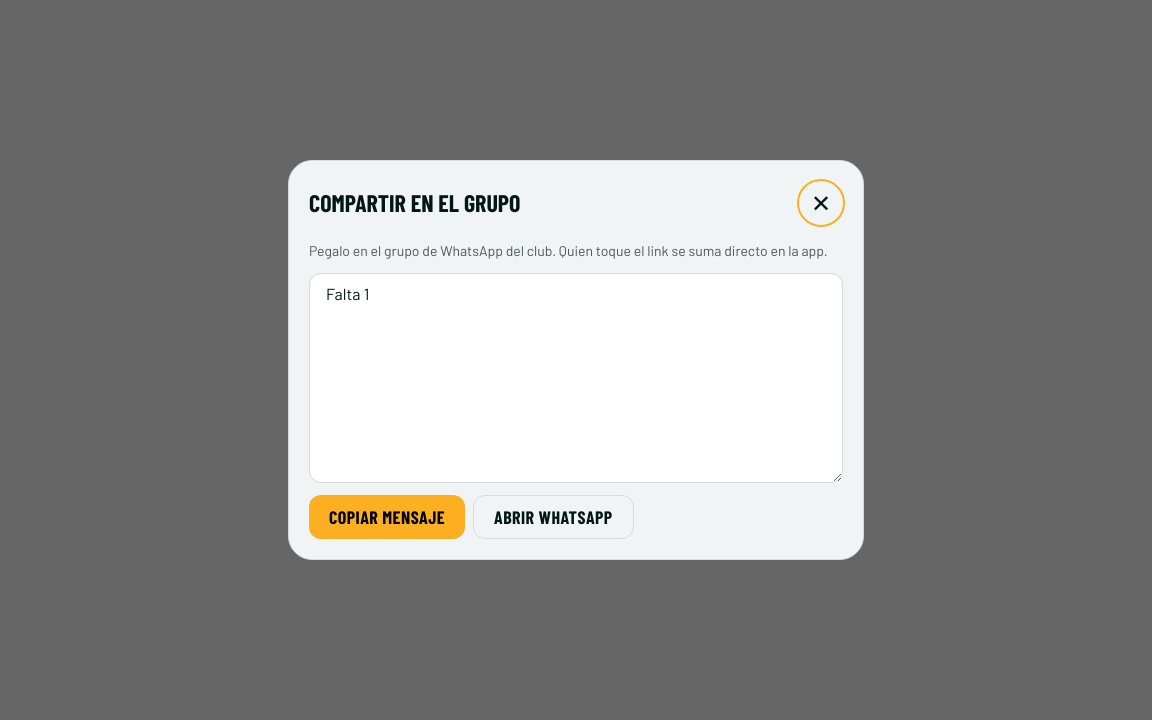
Test: ShareSheet › shows the message, opens WhatsApp with it and copies it
expect the text box named "Mensaje" holds "Falta 1": met, box [309,273,843,483]
Click the button "Copiar mensaje" at (387, 517), box [309,495,465,539]
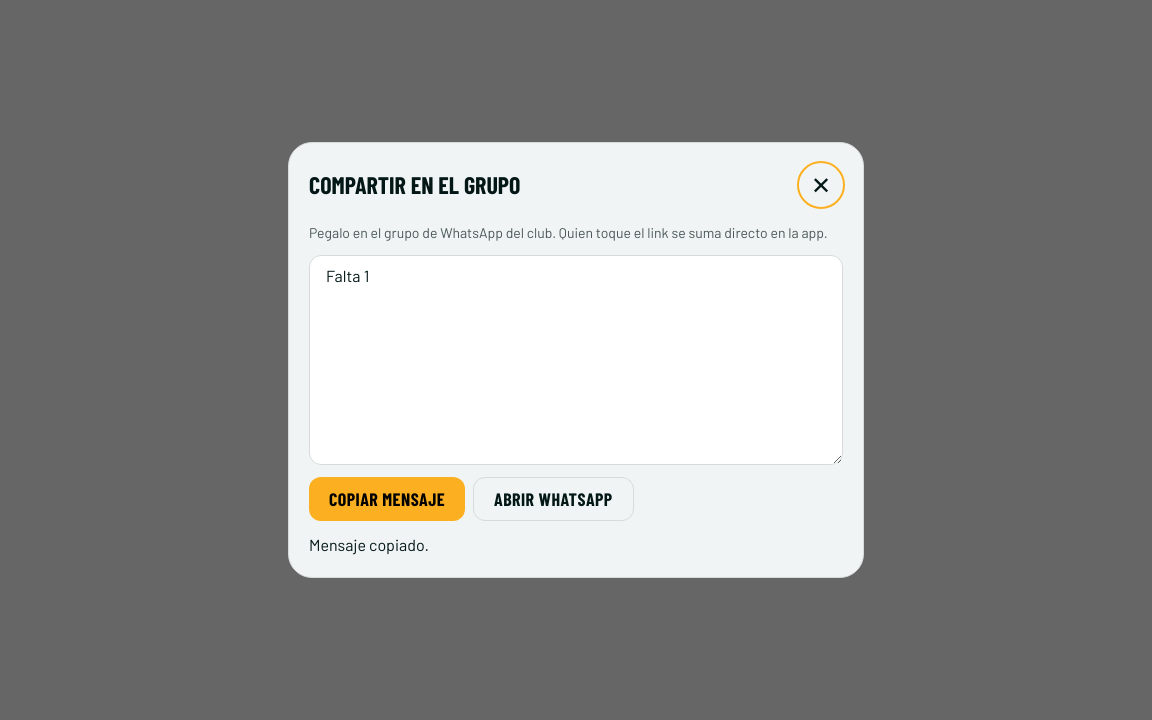
expect the message reads "Mensaje copiado.": met, box [309,535,429,554]
